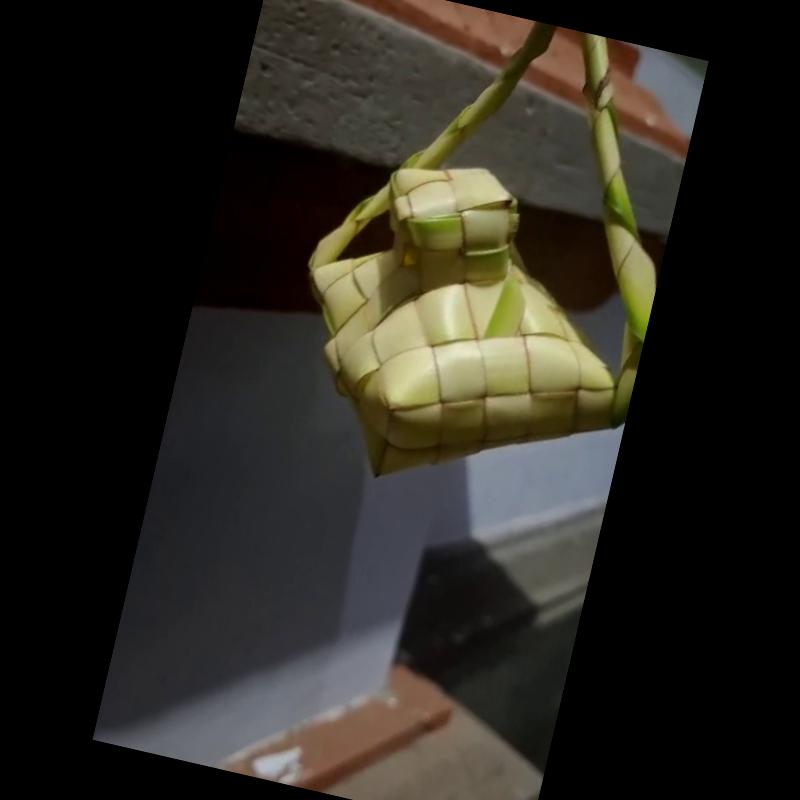Tipat Gong: (312, 20, 652, 481)
